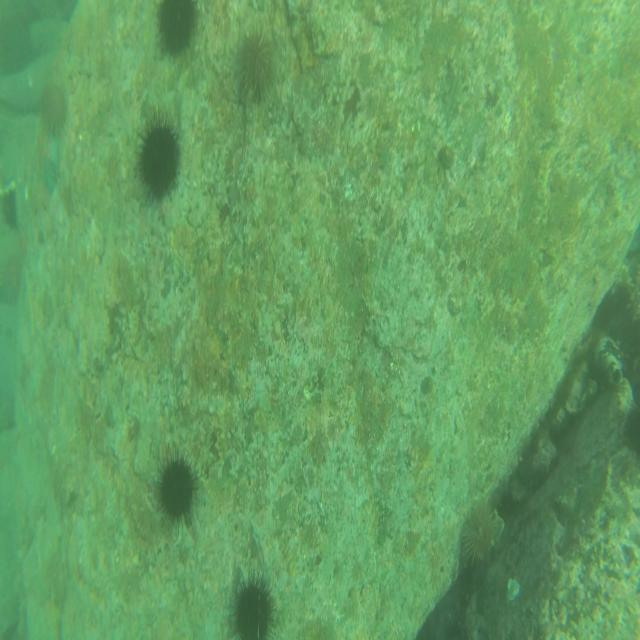echinus: (154, 450, 204, 528), (138, 110, 178, 201), (234, 28, 278, 102), (460, 493, 502, 568), (232, 572, 278, 640), (154, 4, 203, 56), (38, 81, 71, 139)
starfish: (34, 155, 64, 193)
